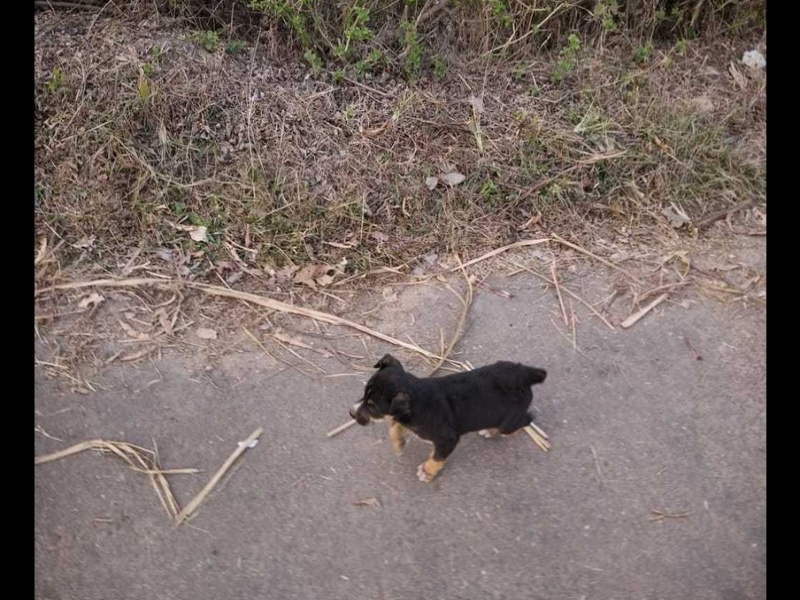dog: (350, 358, 553, 486)
